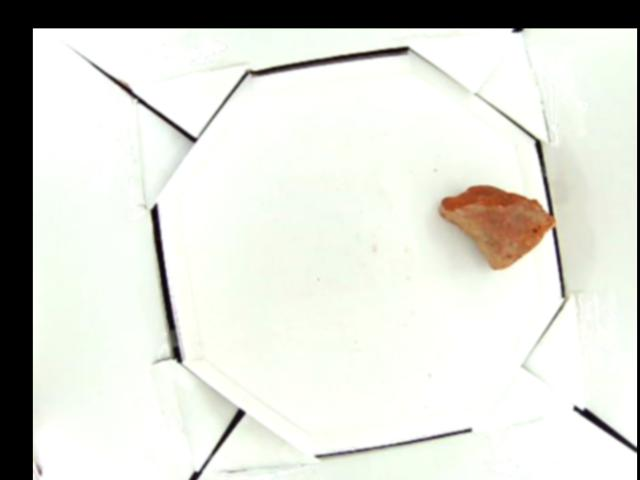Brisk: (440, 183, 555, 269)
